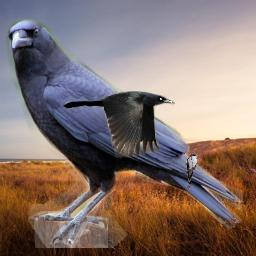Crow: (2, 19, 243, 248), (63, 90, 175, 158)
Cuckoo: (186, 153, 200, 189)
